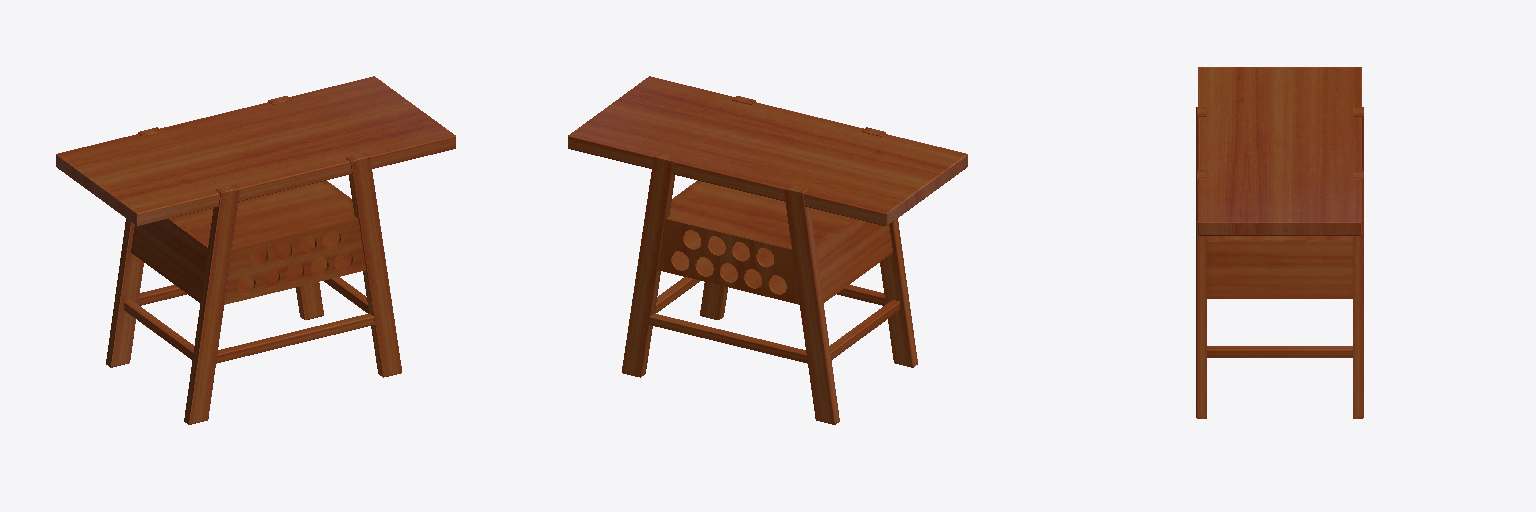
The picture shows the model from 3 angles: view 1: azimuth 30°, elevation 25°; view 2: azimuth 150°, elevation 25°; view 3: azimuth 270°, elevation 25°; orthographic projection.
Visible parts, largest first — view 1: solid_001; view 2: solid_001; view 3: solid_001.
Boxes of the visible parts, <box> form: solid_001: <box>56,76,455,424</box>; solid_001: <box>568,76,967,424</box>; solid_001: <box>1196,67,1363,418</box>.
Bounding box in the file's own units: 1.13 × 0.7564 × 0.5095.
1 materials, 1 textured.